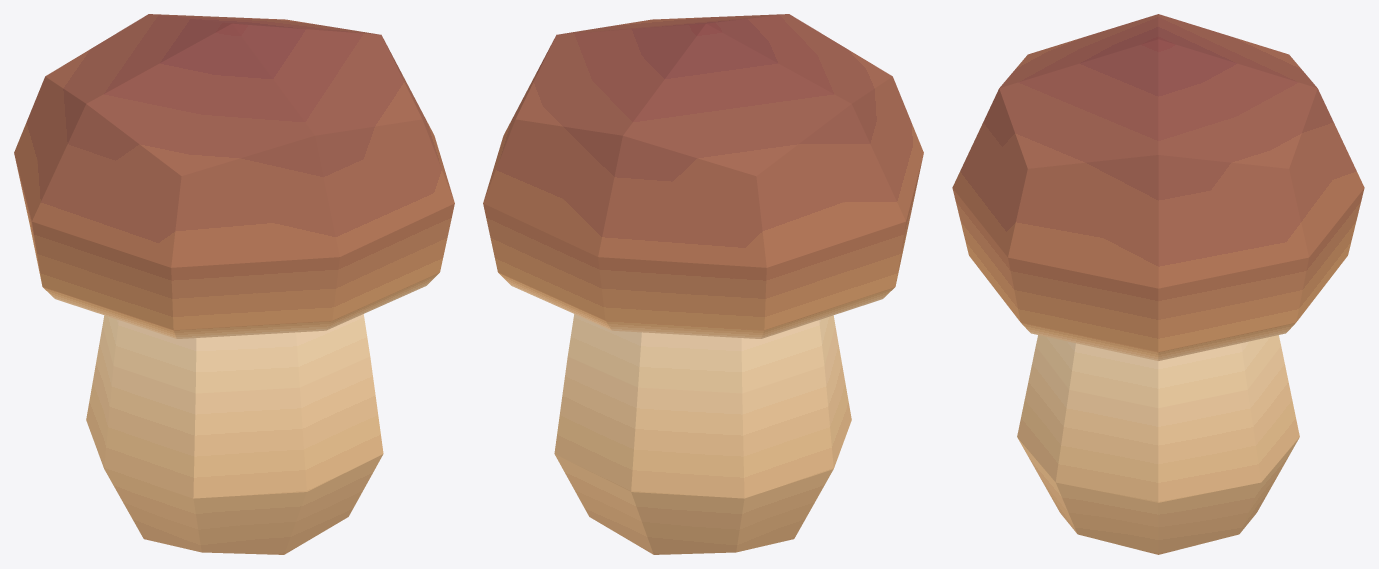
The model's file is Medium_KingBolete.glb.
The picture shows the model from 3 angles, left to right: view 1: azimuth 30°, elevation 25°; view 2: azimuth 150°, elevation 25°; view 3: azimuth 270°, elevation 25°; orthographic projection. The views are drawn at different scales.
Parts seen in each view (by area): view 1: KingB_medium; view 2: KingB_medium; view 3: KingB_medium.
Boxes of the visible parts, bbox=[...] form: KingB_medium: bbox=[14, 14, 454, 554]; KingB_medium: bbox=[483, 14, 923, 554]; KingB_medium: bbox=[952, 14, 1364, 554].
Size of the model in its own units: 5.96 by 7.38 by 5.51.
Materials: 1 (1 with a texture image).
